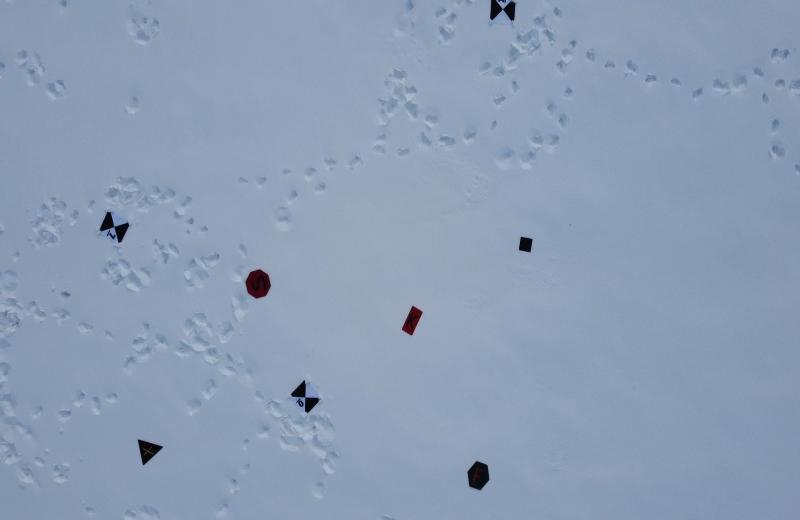Hexagon: (463, 456, 492, 492)
Octagon: (241, 262, 275, 299)
Rectangle: (398, 302, 424, 340)
Square: (513, 230, 536, 256)
Triangle: (133, 432, 166, 468)
